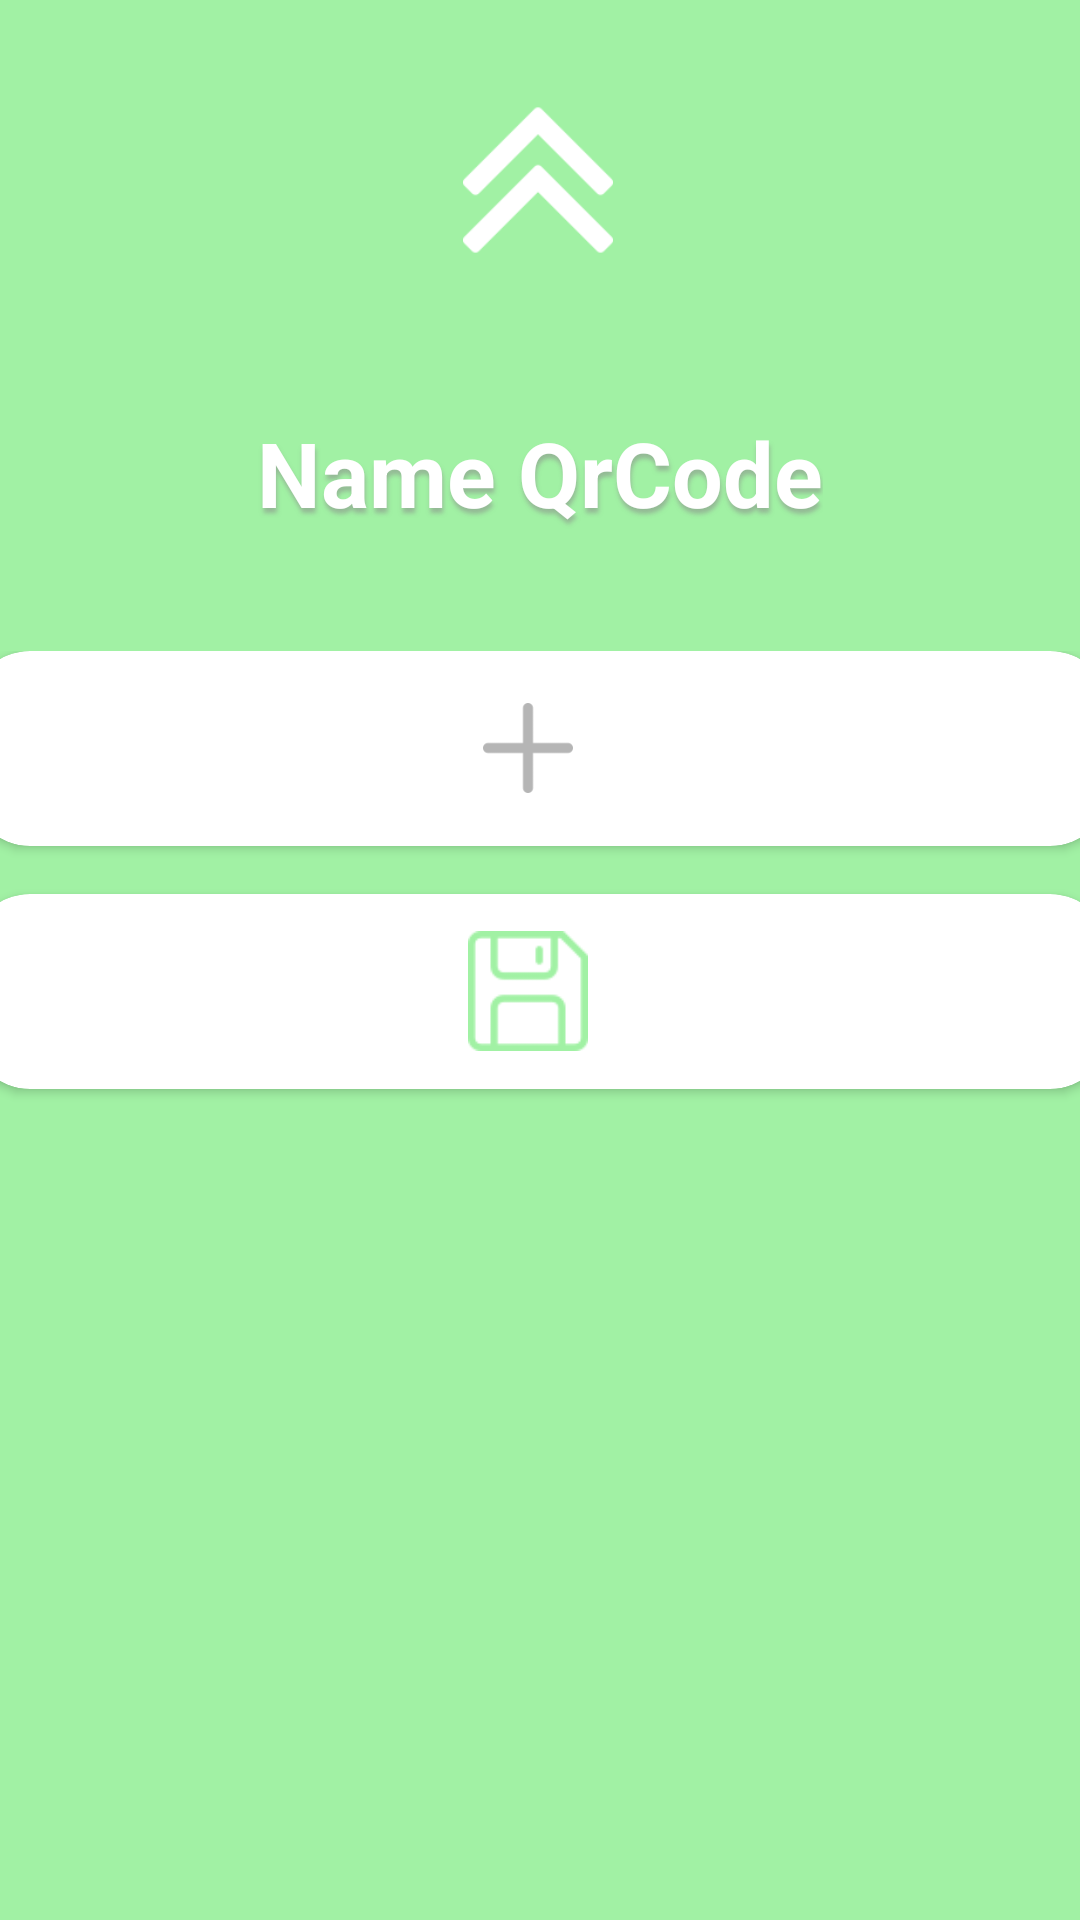

Where icons sit on this 1080px x 1920px app screen, as (x1, y1, x2, y2):
chevron vers le haut: (463, 107, 613, 253)
plus: (483, 703, 573, 793)
save: (468, 931, 588, 1051)
